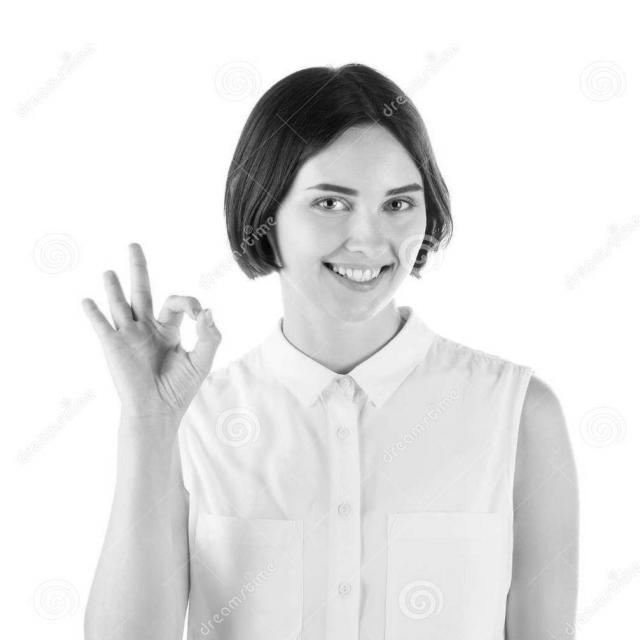perfect: (73, 232, 228, 443)
